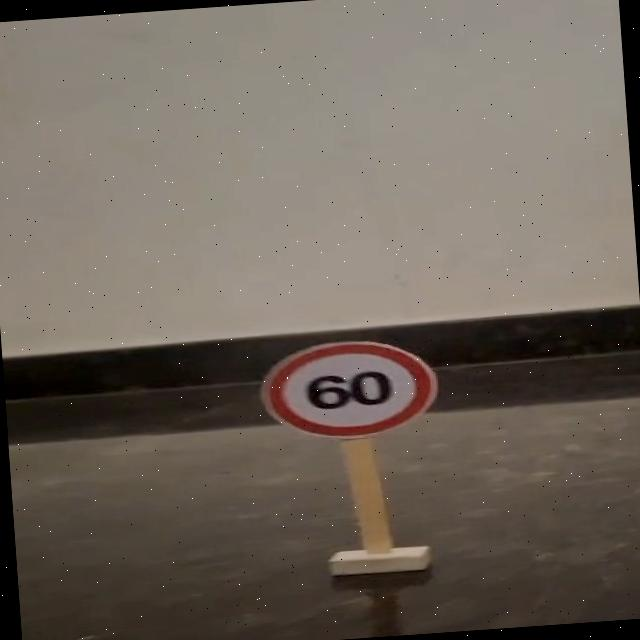Speed60: (242, 328, 453, 449)
